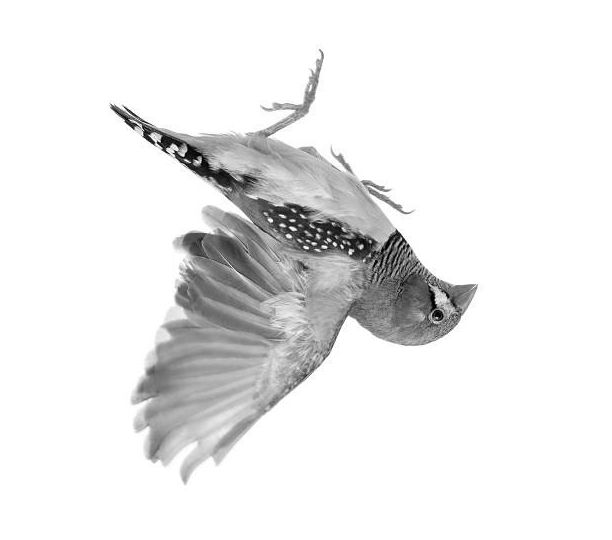Bird: (107, 42, 481, 490)
